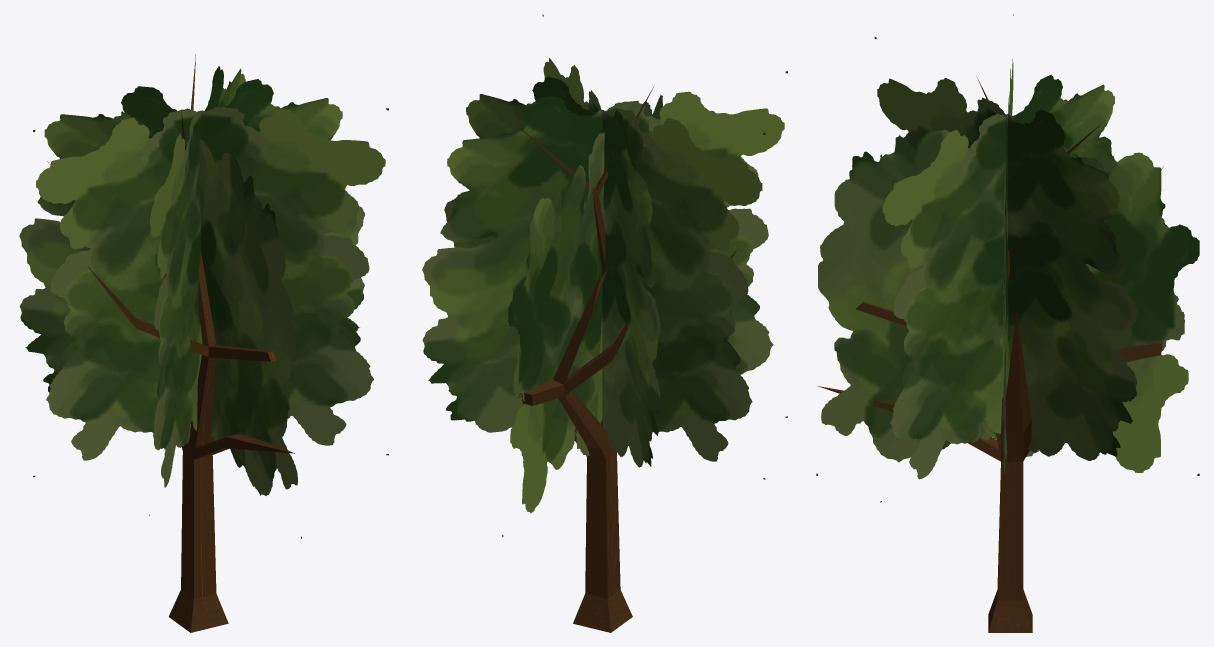
File: arvore-simples-variacao1.fbx
The picture shows the model from 3 angles, left to right: view 1: azimuth 30°, elevation 25°; view 2: azimuth 150°, elevation 25°; view 3: azimuth 270°, elevation 25°; orthographic projection.
Visible parts, largest first — view 1: Plane.003, Plane.001, Plane, Plane.002, Cube; view 2: Plane.002, Plane.001, Plane, Plane.003, Cube; view 3: Plane.002, Plane, Plane.003, Cube, Plane.001.
Part boxes in pixels (x1,y1,x2,y2): Plane.003: [19, 86, 388, 455]; Plane.001: [33, 79, 364, 477]; Plane: [121, 111, 301, 538]; Plane.002: [149, 66, 245, 515]; Cube: [47, 54, 294, 632]; Plane.002: [422, 71, 787, 438]; Plane.001: [444, 76, 765, 479]; Plane: [502, 94, 662, 536]; Plane.003: [542, 14, 660, 467]; Cube: [513, 87, 738, 632]; Plane.002: [874, 37, 1137, 460]; Plane: [816, 129, 1199, 475]; Plane.003: [880, 75, 1117, 502]; Cube: [817, 76, 1163, 632]; Plane.001: [1002, 14, 1013, 473].
Bounding box in the file's own units: 521 × 799 × 521.
